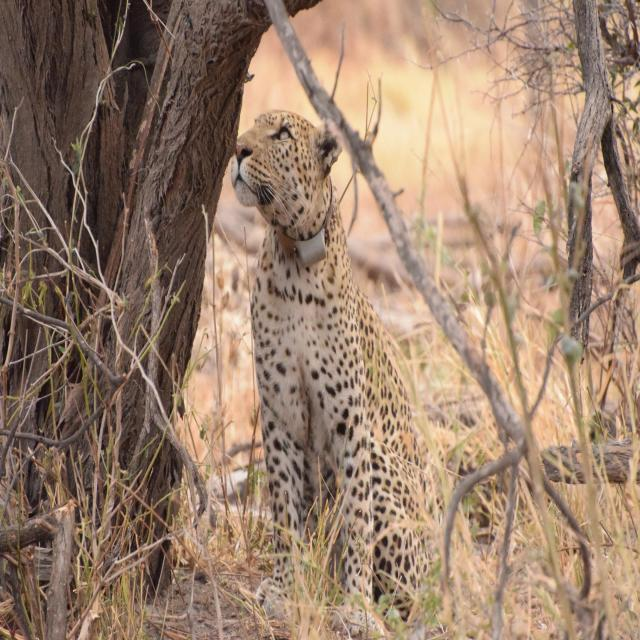Leopard: (214, 104, 462, 628)
